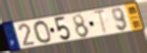2: (18, 23, 37, 48)
5: (53, 15, 72, 42)
8: (72, 13, 90, 38)
9: (111, 7, 129, 33)
O: (32, 20, 53, 44)
T: (92, 9, 108, 36)
